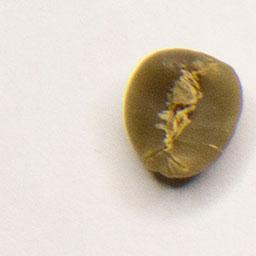premium: (121, 44, 246, 181)
